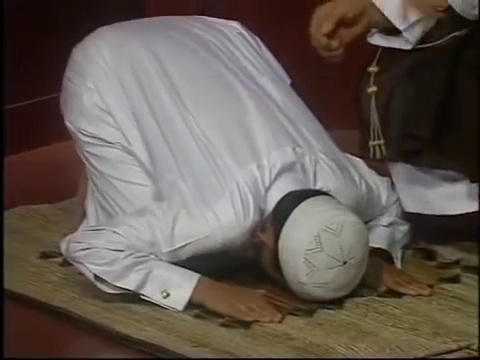sujud: (54, 14, 439, 323)
